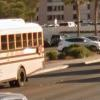Bus: (1, 12, 50, 93)
